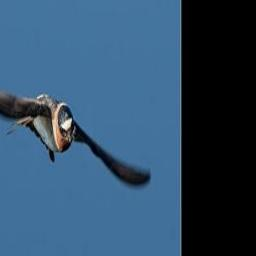Swallow: (0, 70, 153, 185)
